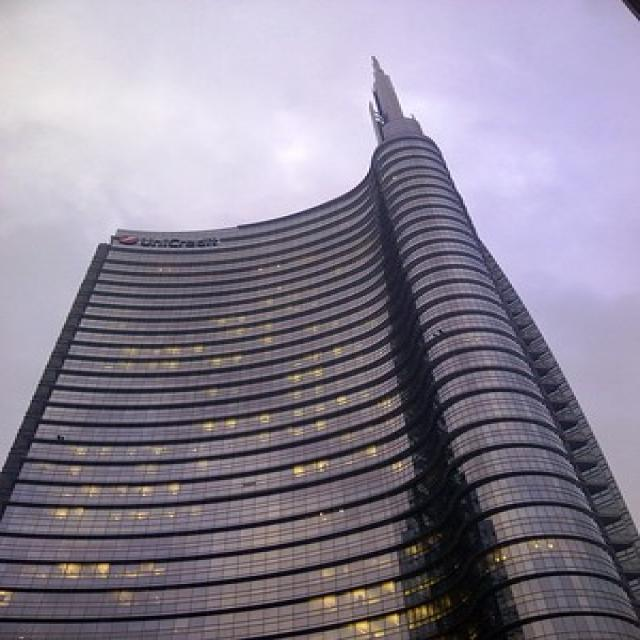Normal_building: (6, 112, 640, 640)
